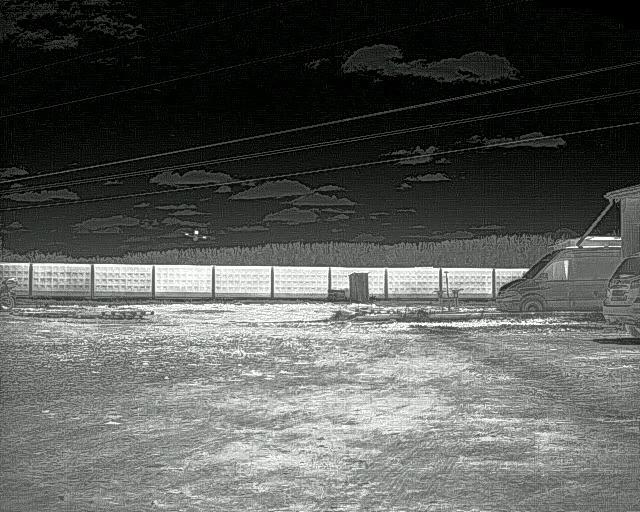drone-thermal: (185, 228, 209, 242)
